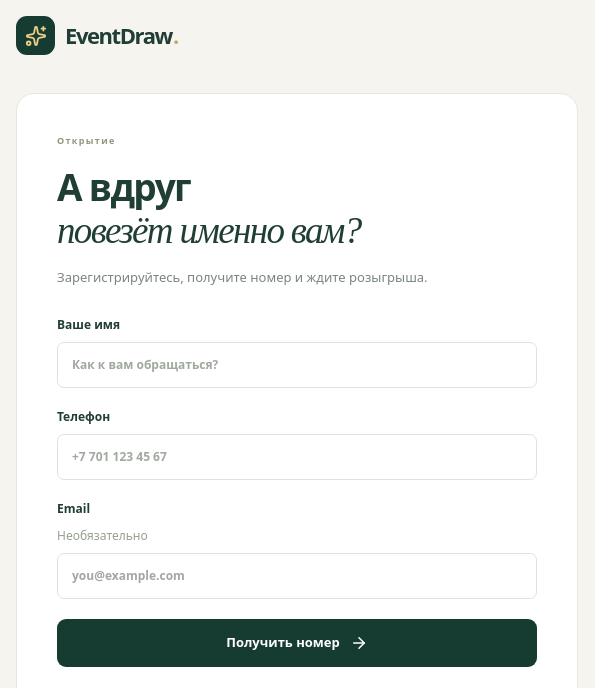
Test: public registration › submits to the Edge service and displays the server-issued ticket
In the field labelled "Ваше имя": point(297, 365) top-left (57, 342), bottom-right (537, 388), type "Дана"
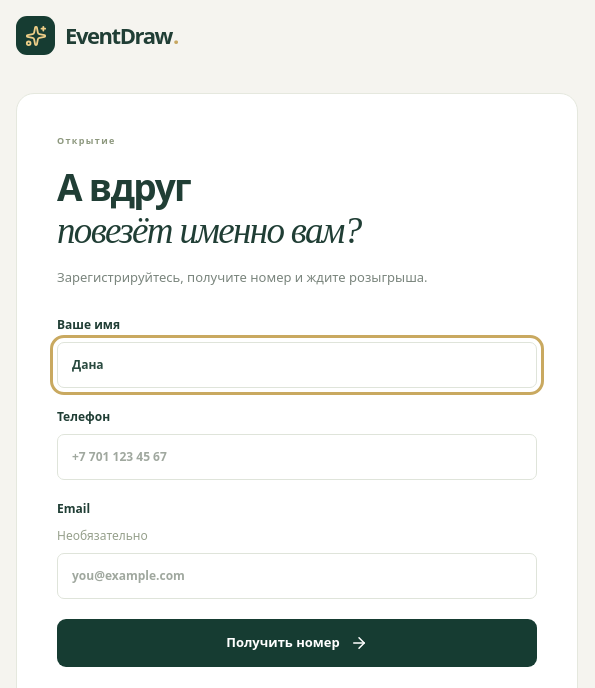
In the field labelled "Телефон": point(297, 457) top-left (57, 434), bottom-right (537, 480), type "+77011234567"
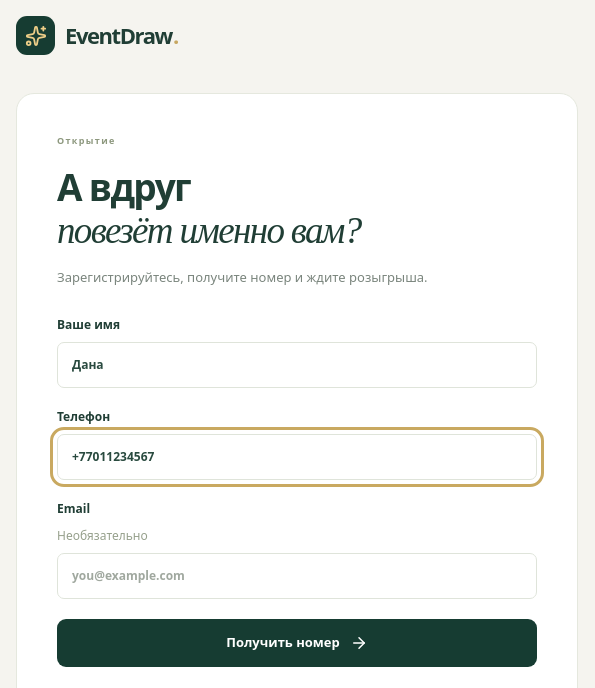
Click the button "Получить номер": point(297, 643) top-left (57, 619), bottom-right (537, 667)
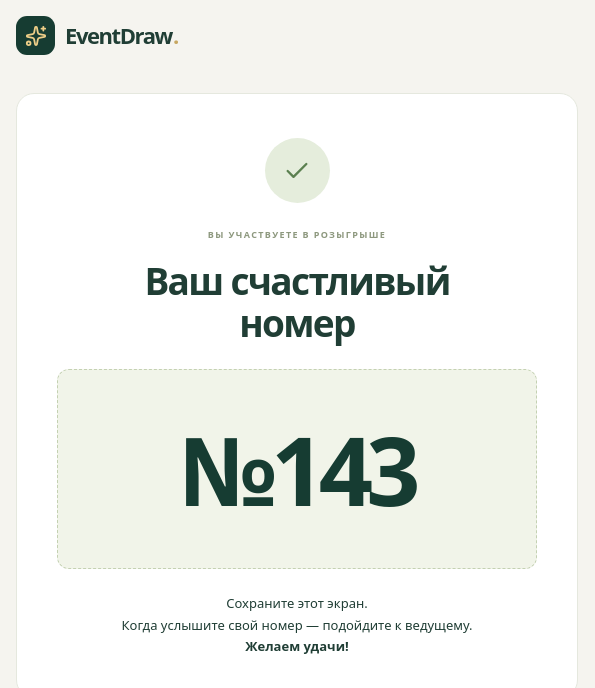
Expected: the text "№143" is shown, top-left (57, 369), bottom-right (537, 569)
